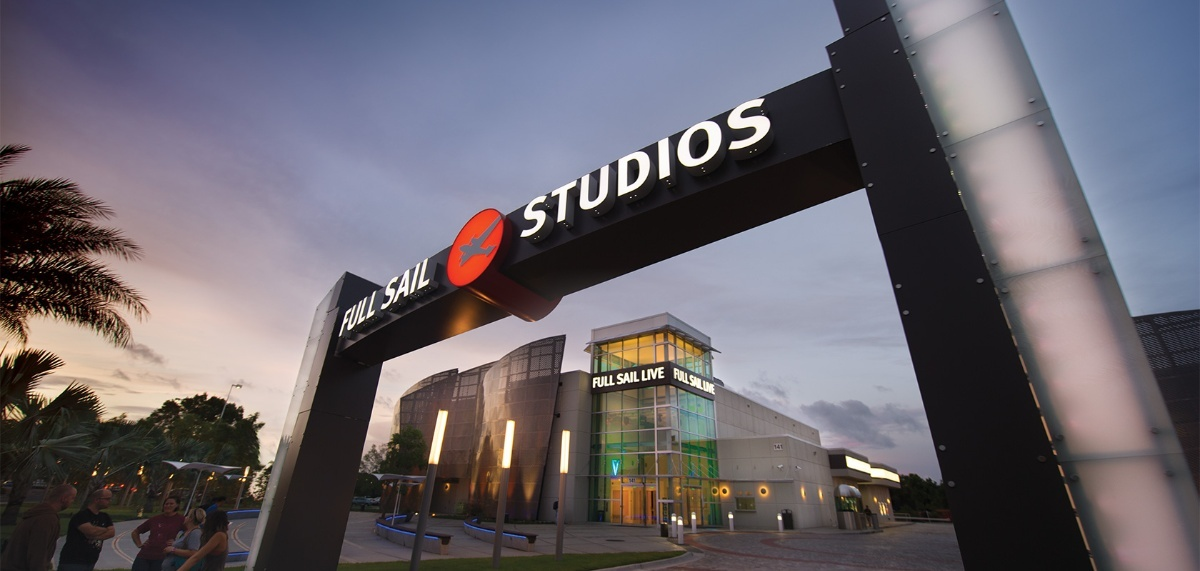text: (529, 88, 544, 241), (545, 88, 560, 241), (561, 88, 576, 241), (577, 88, 592, 241), (593, 88, 608, 241), (609, 88, 624, 241), (625, 88, 640, 241), (641, 88, 656, 241), (657, 88, 672, 241), (673, 88, 688, 241), (689, 88, 704, 241), (705, 88, 720, 241), (721, 88, 736, 241), (737, 88, 752, 241), (753, 88, 768, 241), (769, 88, 776, 241), (417, 255, 433, 312), (385, 255, 400, 312), (401, 255, 416, 312), (353, 287, 368, 339), (524, 88, 528, 241), (369, 287, 379, 339), (346, 287, 352, 339), (689, 374, 704, 392), (674, 367, 688, 386), (641, 365, 656, 382), (593, 372, 608, 389), (625, 370, 641, 385), (705, 380, 716, 396), (657, 365, 666, 382), (616, 370, 624, 385), (609, 372, 616, 389), (382, 255, 384, 312), (774, 443, 784, 451), (628, 478, 640, 483), (689, 367, 691, 386), (703, 380, 704, 396)
